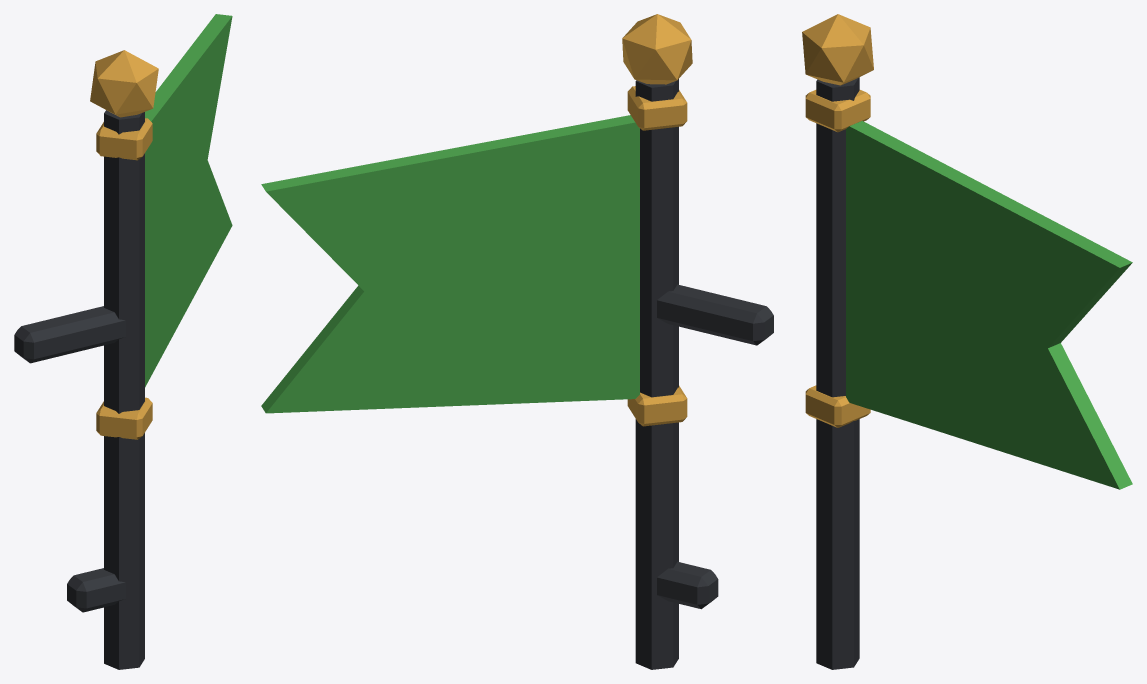
Rendered from MenderKit7.obj.
3 renders of one model, left to right at view 1: azimuth 30°, elevation 25°; view 2: azimuth 150°, elevation 25°; view 3: azimuth 270°, elevation 25°, orthographic. The views are drawn at different scales.
Parts seen in each view (by area): view 1: MenderKit7; view 2: MenderKit7; view 3: MenderKit7.
Part boxes in pixels (bbox=[...]): MenderKit7: bbox=[14, 14, 232, 669]; MenderKit7: bbox=[261, 14, 773, 669]; MenderKit7: bbox=[802, 14, 1132, 669].
Size of the model in its own units: 0.4155 by 0.7 by 0.3245.
